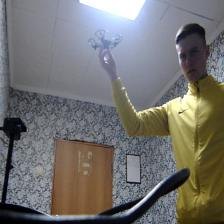drone: (87, 28, 121, 57)
